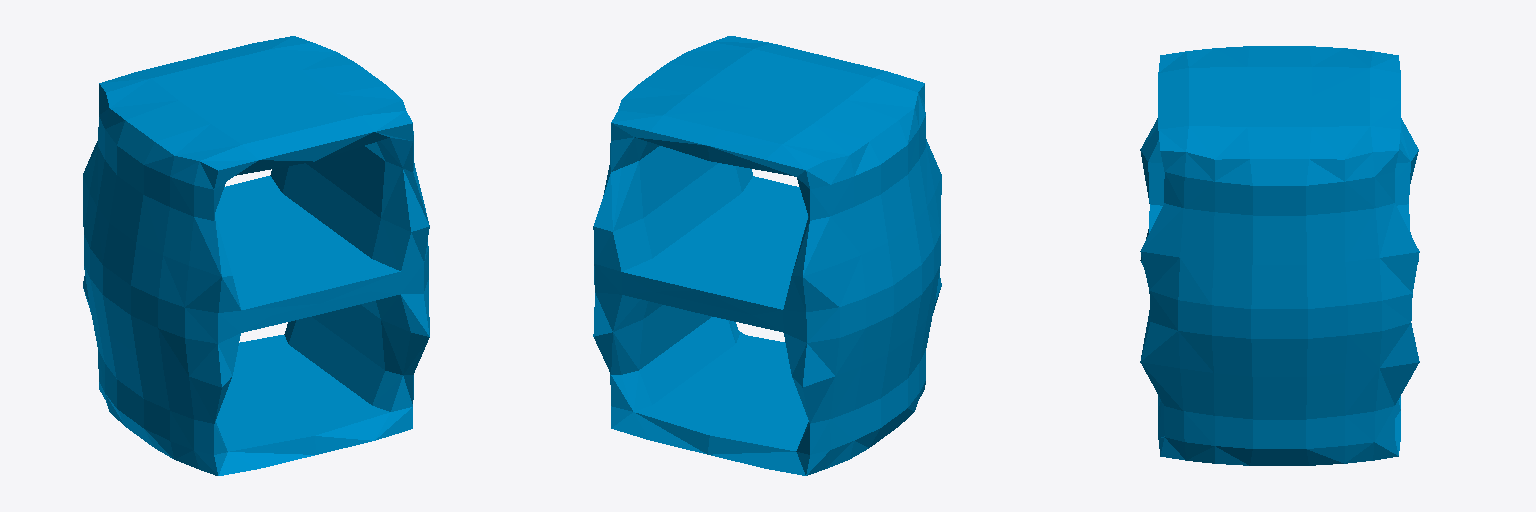
The picture shows the model from 3 angles: view 1: azimuth 30°, elevation 25°; view 2: azimuth 150°, elevation 25°; view 3: azimuth 270°, elevation 25°; orthographic projection.
Visible parts, largest first — view 1: Cube9; view 2: Cube9; view 3: Cube9.
Boxes of the visible parts, <box> form: Cube9: <box>83,36,429,475</box>; Cube9: <box>593,36,941,475</box>; Cube9: <box>1140,46,1419,465</box>.
Size of the model in its own units: 330 by 360 by 286.